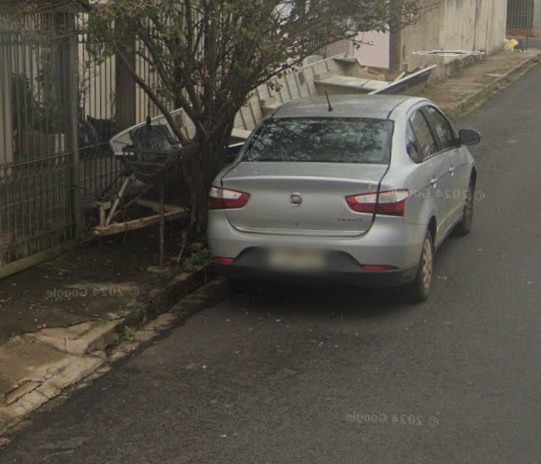car: (202, 84, 486, 311)
